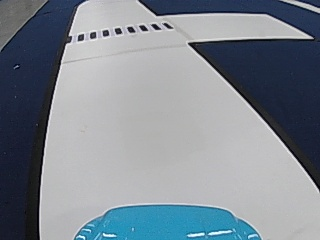CrossWalk: (68, 22, 171, 43)
